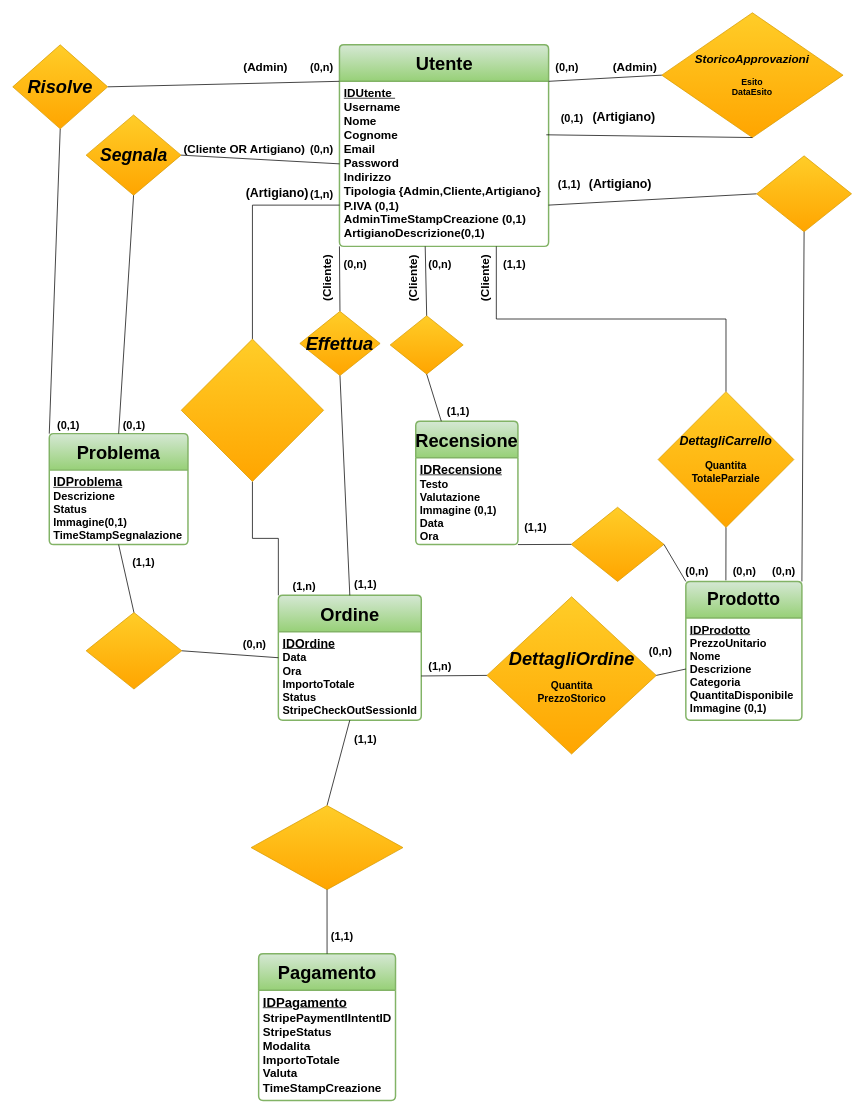
Image size: 864x1114. Some labels were removed from this diagram. The shapes that lost their labels are listed below. From the top down, each one's box as (x1, y1, x2, y2) in pixels, then its label:
(756, 155, 852, 232): Fornisce
(389, 315, 463, 374): Scrive
(181, 338, 324, 481): SubOrdine SubOrdineStatus
(570, 507, 664, 581): RelativaA
(85, 612, 182, 689): RelativoA
(250, 805, 403, 890): ProcessatoCon
